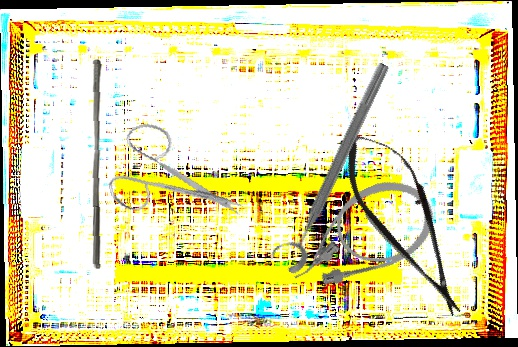Cannula: (273, 167, 447, 303)
Fixation Ring: (266, 54, 396, 277)
Iris Scissors: (95, 104, 247, 246)
Micro Scissor: (325, 112, 486, 330)
Pusher: (85, 58, 109, 270)
